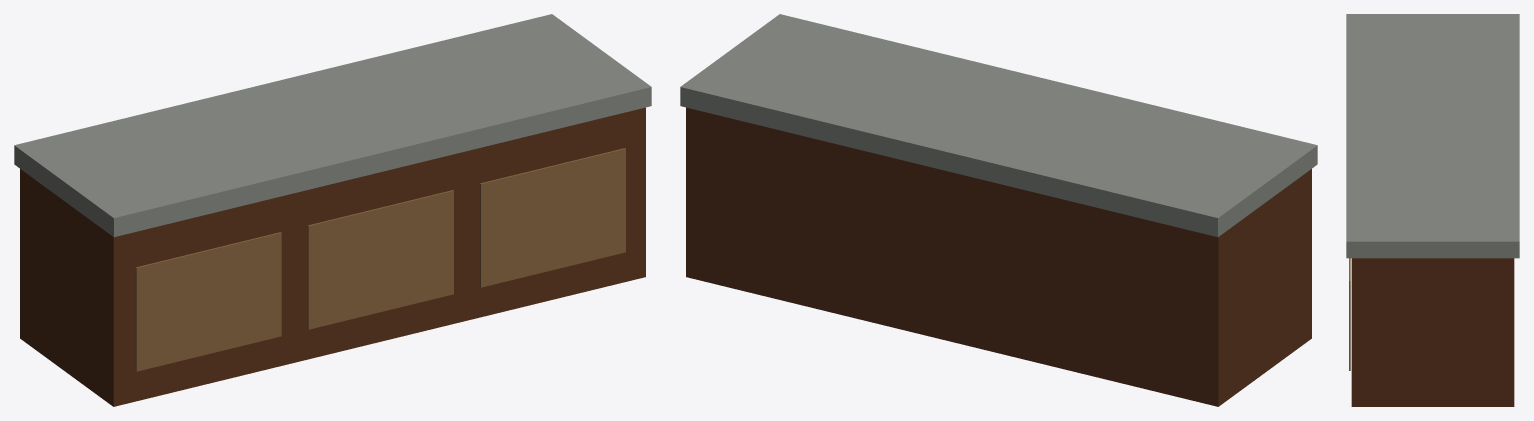
The model's file is hotel_desk.glb.
3 views of the same model, side by side, from view 1: azimuth 30°, elevation 25°; view 2: azimuth 150°, elevation 25°; view 3: azimuth 270°, elevation 25° (orthographic). The views are drawn at different scales.
Parts seen in each view (by area): view 1: body; view 2: body; view 3: body.
Part boxes in pixels (x1=…): body: x1=14, y1=14, x2=651, y2=406; body: x1=680, y1=14, x2=1317, y2=406; body: x1=1346, y1=14, x2=1519, y2=406.
Bounding box in the file's own units: 2.8 × 0.9525 × 0.898.
Materials: 1 (1 with a texture image).
